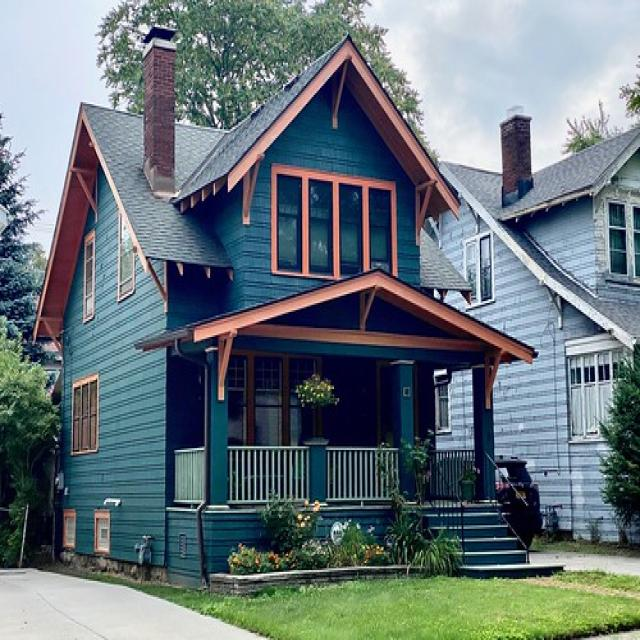building: (27, 22, 545, 579), (429, 110, 640, 557)
